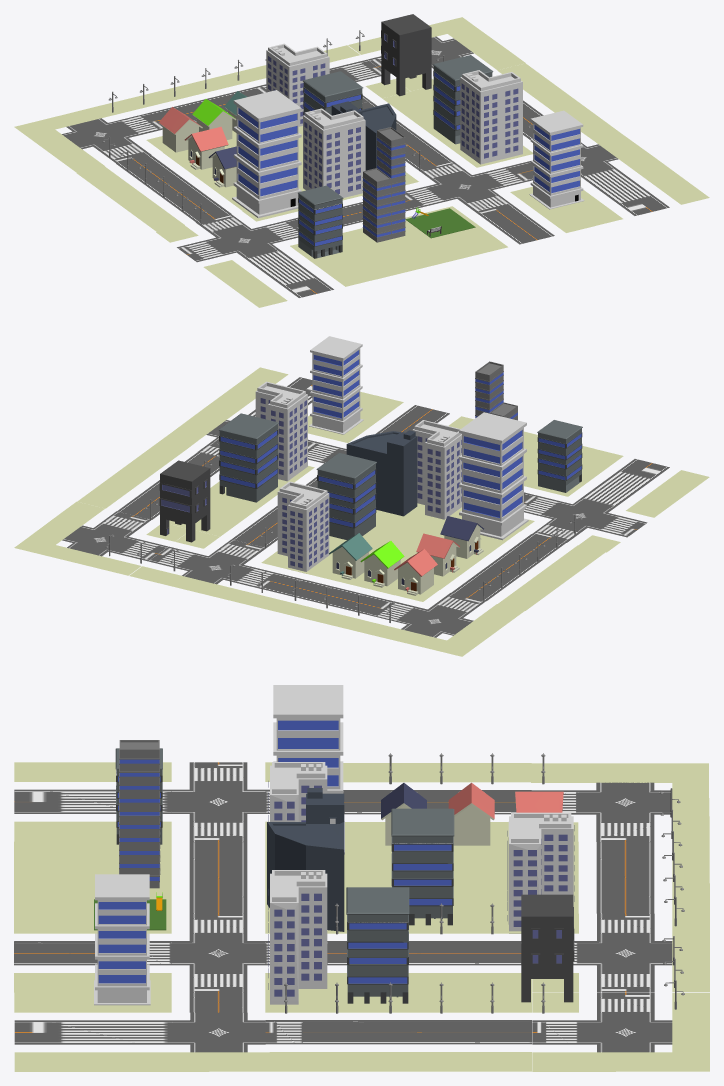
File: 完成道路.fbx
The picture shows the model from 3 angles, top to bottom: view 1: azimuth 30°, elevation 25°; view 2: azimuth 150°, elevation 25°; view 3: azimuth 270°, elevation 25°; orthographic projection. The views are drawn at different scales.
Visible parts, largest first — view 1: 平面, 立方体.002, ビル2, ビル2.002, 立方体.001, あべのハルカスもどき, ビル4, ビル3.001, ビル2.001, ビル3, ビル3.002, 湾曲型ビル (+5 smaller); view 2: 平面, 立方体.002, ビル3, 立方体.001, ビル2.001, ビル3.002, ビル2.002, 湾曲型ビル, ビル2, ビル4, ビル3.001, あべのハルカスもどき (+5 smaller); view 3: 平面, ビル2, 立方体.001, ビル3, ビル3.002, 湾曲型ビル, ビル2.001, 立方体.002, あべのハルカスもどき, ビル4, ビル2.002, 家.003 (+4 smaller).
Part boxes in pixels (x1=…): 平面: x1=14, y1=17, x2=709, y2=307; 立方体.002: x1=232, y1=90, x2=301, y2=218; ビル2: x1=460, y1=70, x2=522, y2=164; ビル2.002: x1=303, y1=108, x2=365, y2=197; 立方体.001: x1=529, y1=110, x2=584, y2=209; あべのハルカスもどき: x1=362, y1=127, x2=405, y2=242; ビル4: x1=381, y1=14, x2=431, y2=96; ビル3.001: x1=298, y1=185, x2=343, y2=258; ビル2.001: x1=266, y1=43, x2=329, y2=126; ビル3: x1=432, y1=55, x2=493, y2=144; ビル3.002: x1=303, y1=71, x2=363, y2=115; 湾曲型ビル: x1=331, y1=101, x2=396, y2=170; 平面: x1=14, y1=367, x2=709, y2=656; 立方体.002: x1=459, y1=412, x2=528, y2=540; ビル3: x1=219, y1=413, x2=278, y2=502; 立方体.001: x1=309, y1=336, x2=363, y2=434; ビル2.001: x1=277, y1=481, x2=329, y2=571; ビル3.002: x1=316, y1=453, x2=376, y2=539; ビル2.002: x1=412, y1=420, x2=461, y2=519; 湾曲型ビル: x1=346, y1=430, x2=417, y2=516; ビル2: x1=255, y1=381, x2=307, y2=481; ビル4: x1=159, y1=460, x2=210, y2=542; ビル3.001: x1=537, y1=420, x2=582, y2=492; あべのハルカスもどき: x1=475, y1=361, x2=517, y2=420; 平面: x1=14, y1=762, x2=709, y2=1071; ビル2: x1=268, y1=870, x2=327, y2=1004; 立方体.001: x1=94, y1=874, x2=150, y2=1005; ビル3: x1=346, y1=887, x2=409, y2=1003; ビル3.002: x1=391, y1=808, x2=454, y2=925; 湾曲型ビル: x1=267, y1=788, x2=344, y2=931; ビル2.001: x1=507, y1=812, x2=574, y2=933; 立方体.002: x1=273, y1=685, x2=344, y2=854; あべのハルカスもどき: x1=119, y1=740, x2=160, y2=888; ビル4: x1=521, y1=894, x2=574, y2=1002; ビル2.002: x1=268, y1=762, x2=327, y2=821; 家.003: x1=448, y1=782, x2=494, y2=845.
Size of the model in its own units: 10504 by 2258 by 9980.
